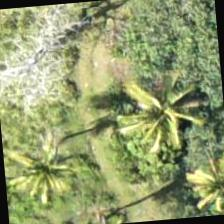Kelapa_Sawit: (111, 66, 210, 164), (1, 118, 92, 215), (166, 137, 223, 219)
